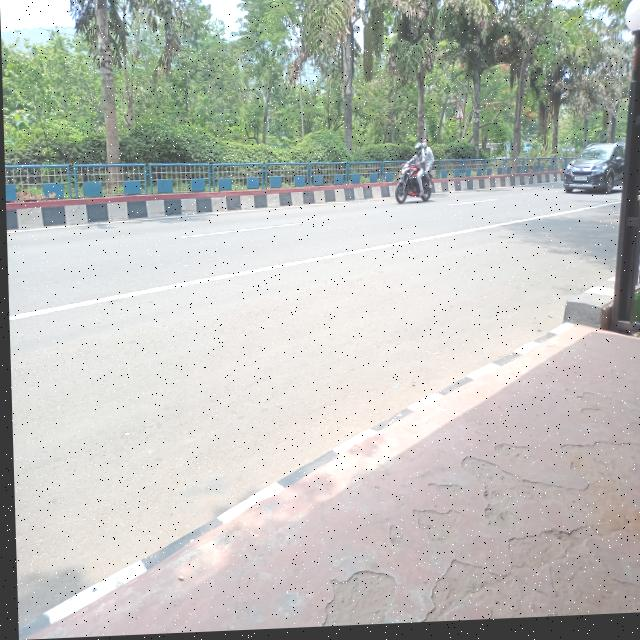bike: (393, 163, 434, 205)
car: (563, 143, 622, 209)
